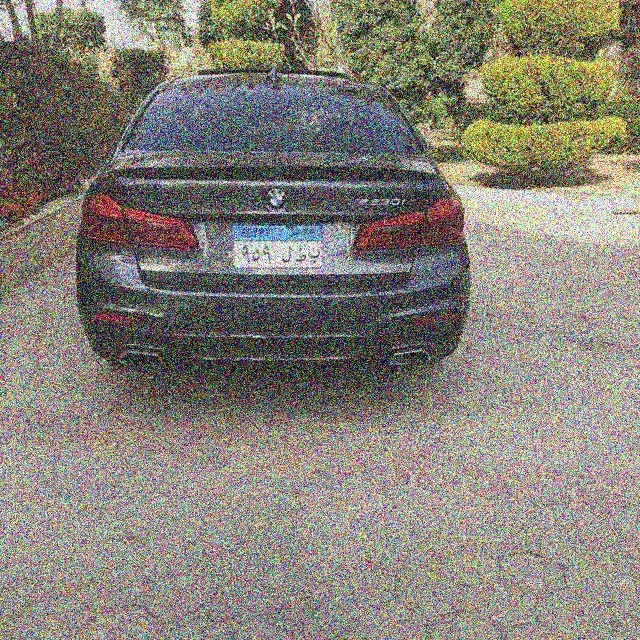License Plate: (230, 221, 325, 271)
